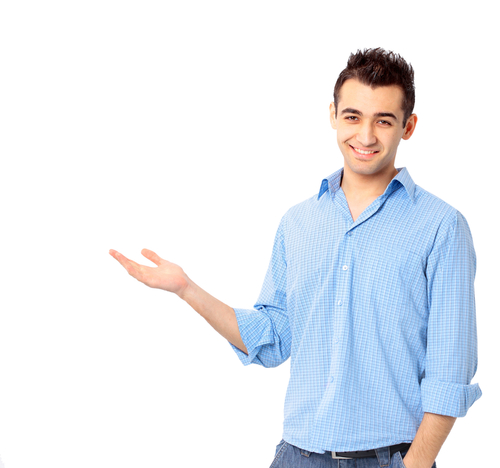happy: (336, 87, 405, 175)
